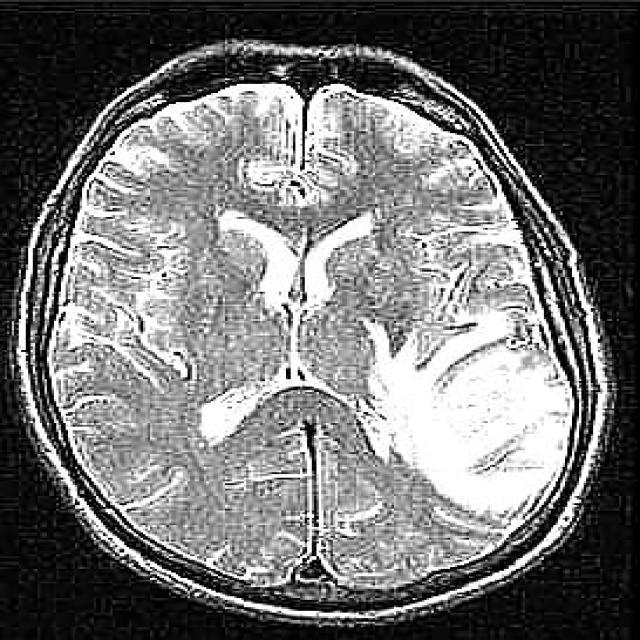Tumor-Cell: (342, 280, 576, 507)
